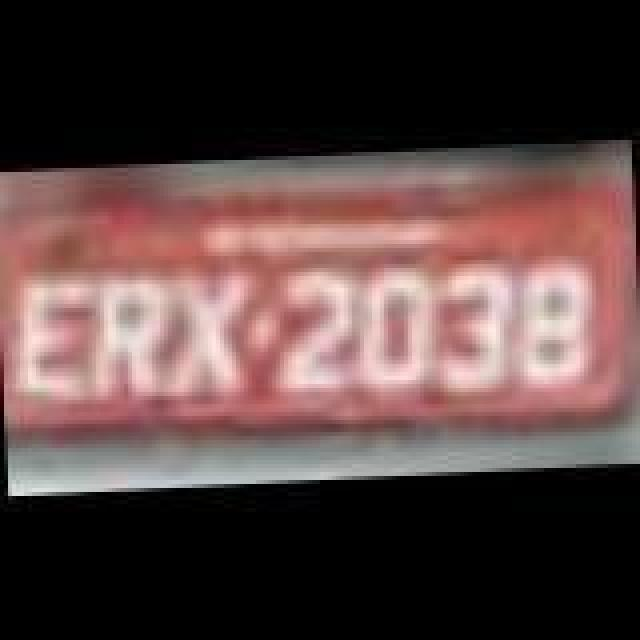2: (278, 272, 362, 400)
3: (438, 256, 522, 400)
8: (506, 254, 598, 394)
E: (6, 282, 106, 406)
O: (354, 260, 446, 396)
R: (86, 270, 170, 402)
X: (160, 264, 256, 400)
